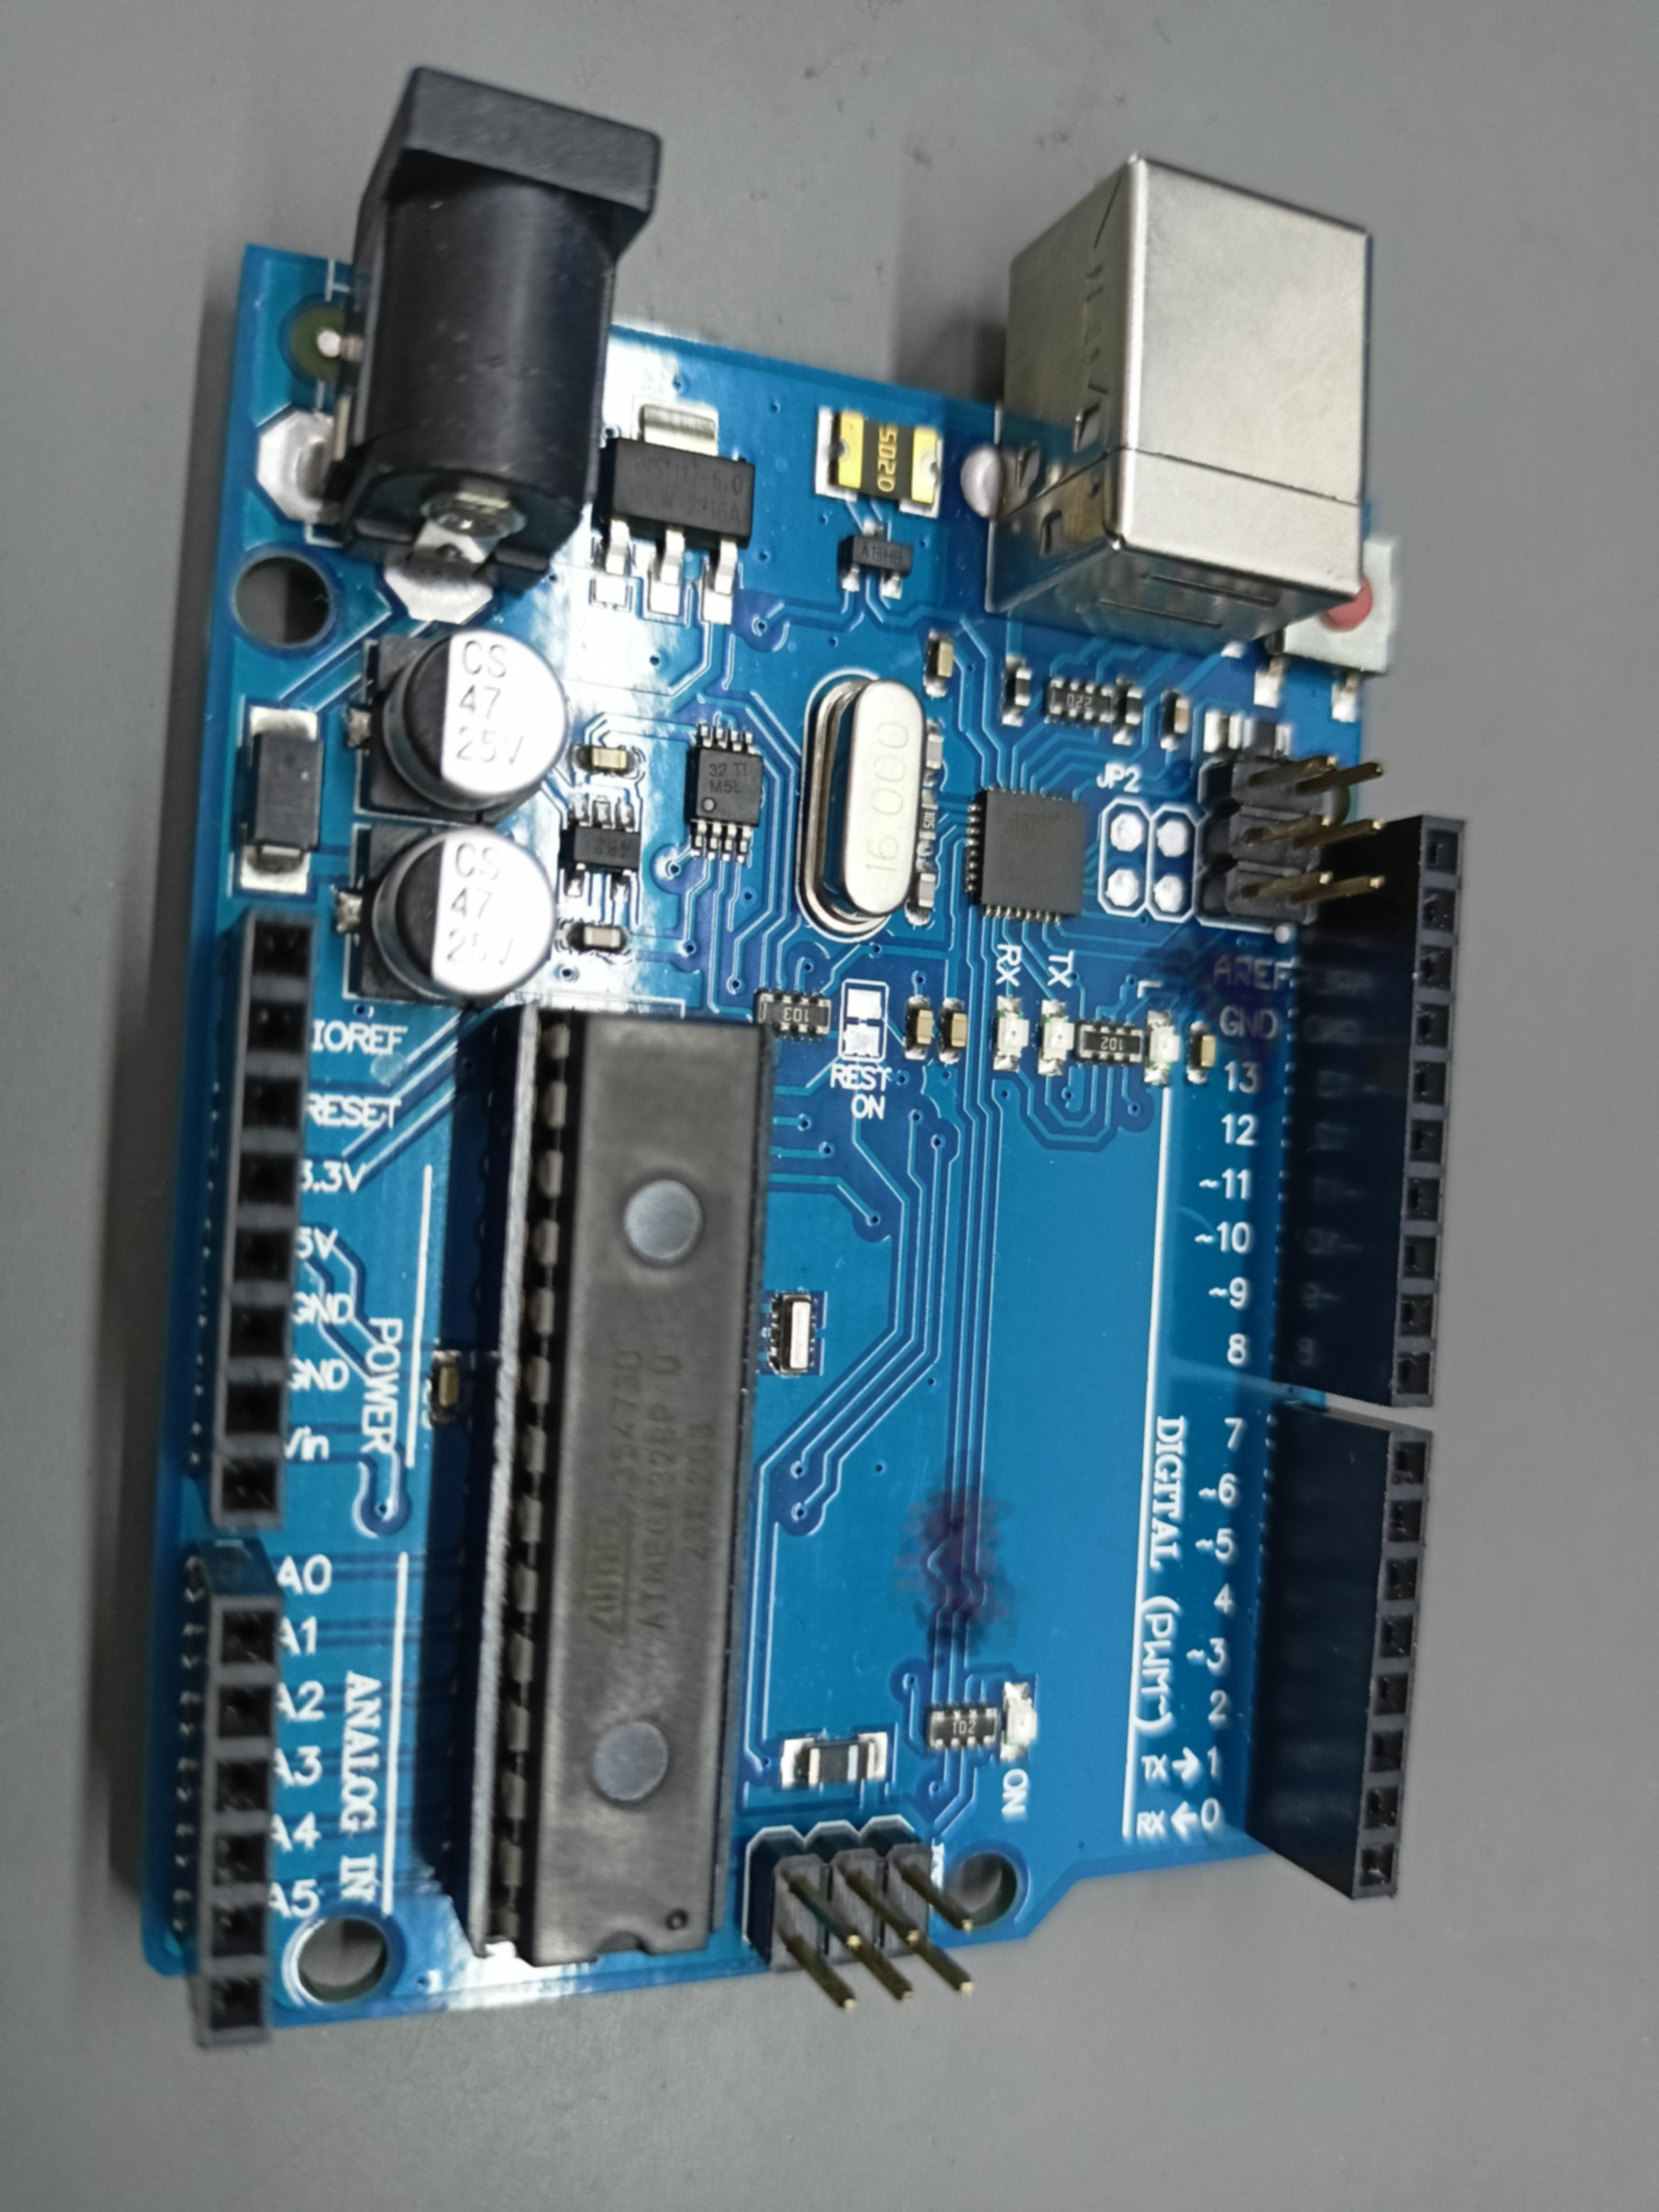ATmega328 chip: (444, 998, 775, 1966)
Arduino board: (139, 68, 1466, 2050)
Overheat: (1131, 934, 1291, 1122), (887, 1451, 1026, 1667)
USB: (992, 152, 1373, 657)
capacitor: (350, 627, 568, 829), (338, 824, 558, 1010)
pins: (1272, 815, 1464, 1407), (1244, 1397, 1434, 1900), (195, 906, 319, 1527), (183, 1538, 284, 2048)
resistor: (756, 989, 831, 1038), (1046, 679, 1114, 726), (927, 1705, 997, 1749), (1077, 1022, 1143, 1064)
